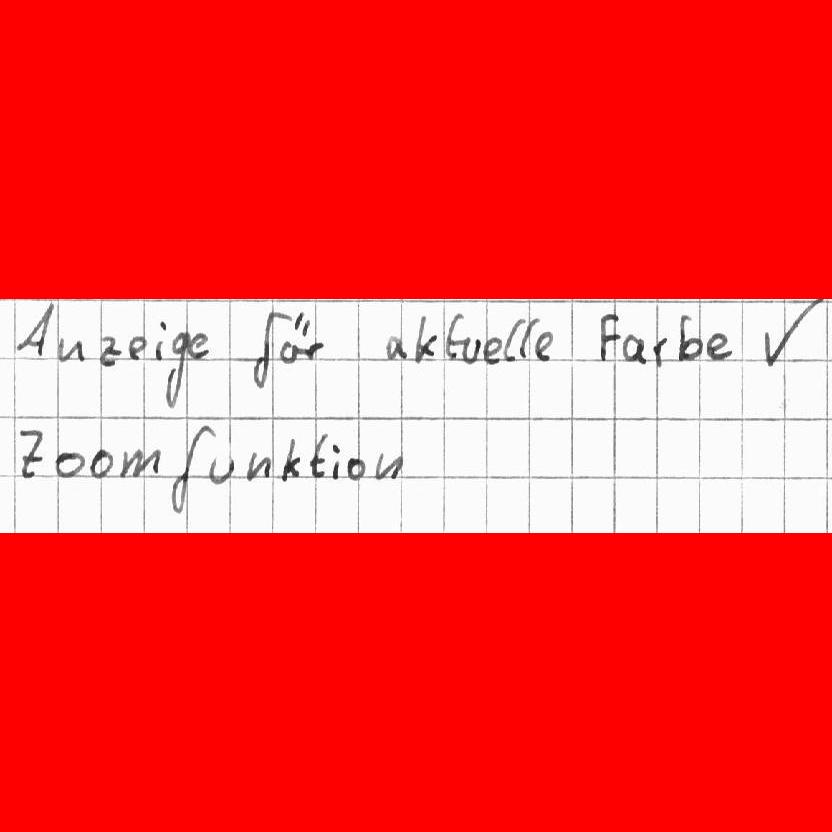Char: (171, 421, 213, 515), (250, 307, 287, 396), (15, 300, 54, 358), (165, 329, 190, 414), (278, 308, 310, 368), (409, 311, 441, 366), (17, 427, 45, 481), (117, 446, 163, 478), (675, 312, 703, 362), (598, 310, 622, 360), (279, 435, 303, 483), (445, 310, 466, 363), (308, 431, 330, 480), (372, 449, 404, 482), (88, 444, 116, 479), (244, 450, 273, 483), (504, 314, 523, 363), (518, 316, 538, 361), (55, 335, 86, 364), (705, 330, 733, 362), (55, 449, 86, 477), (533, 328, 556, 364), (97, 334, 121, 368), (208, 456, 236, 485), (383, 332, 407, 364), (622, 334, 647, 364), (187, 331, 211, 361), (460, 334, 481, 367), (482, 334, 503, 367), (650, 336, 670, 370), (153, 319, 168, 363), (304, 335, 326, 362), (345, 456, 367, 483), (330, 440, 344, 482), (127, 334, 149, 360)
